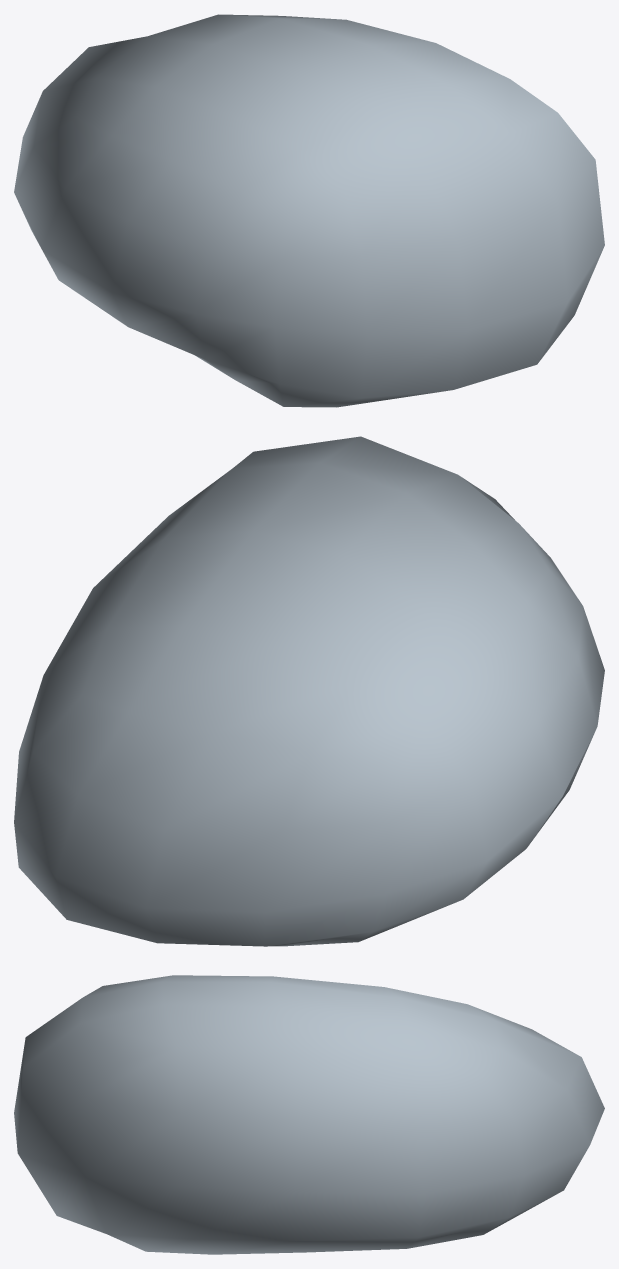
File: itch_assetquest_pond_pebble_4b.glb
3 views of the same model, one above another, from view 1: azimuth 30°, elevation 25°; view 2: azimuth 150°, elevation 25°; view 3: azimuth 270°, elevation 25° (orthographic). The views are drawn at different scales.
Parts seen in each view (by area): view 1: Pebble_4b; view 2: Pebble_4b; view 3: Pebble_4b.
Boxes of the visible parts, bbox=[...] form: Pebble_4b: bbox=[14, 14, 604, 407]; Pebble_4b: bbox=[14, 436, 604, 946]; Pebble_4b: bbox=[14, 975, 604, 1254].
Size of the model in its own units: 0.2887 by 0.1883 by 0.42.
